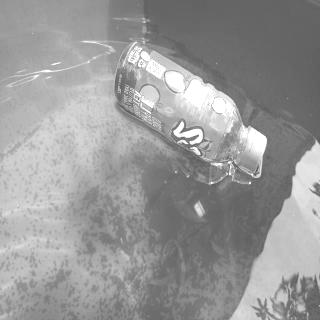bottle: (114, 40, 268, 175)
